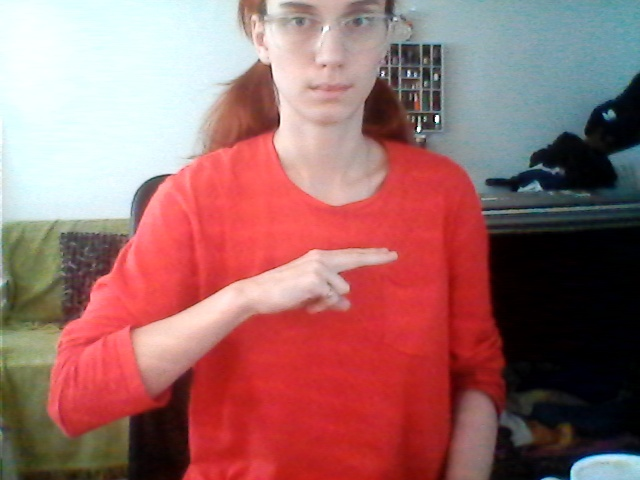frajer: (233, 233, 413, 328)
